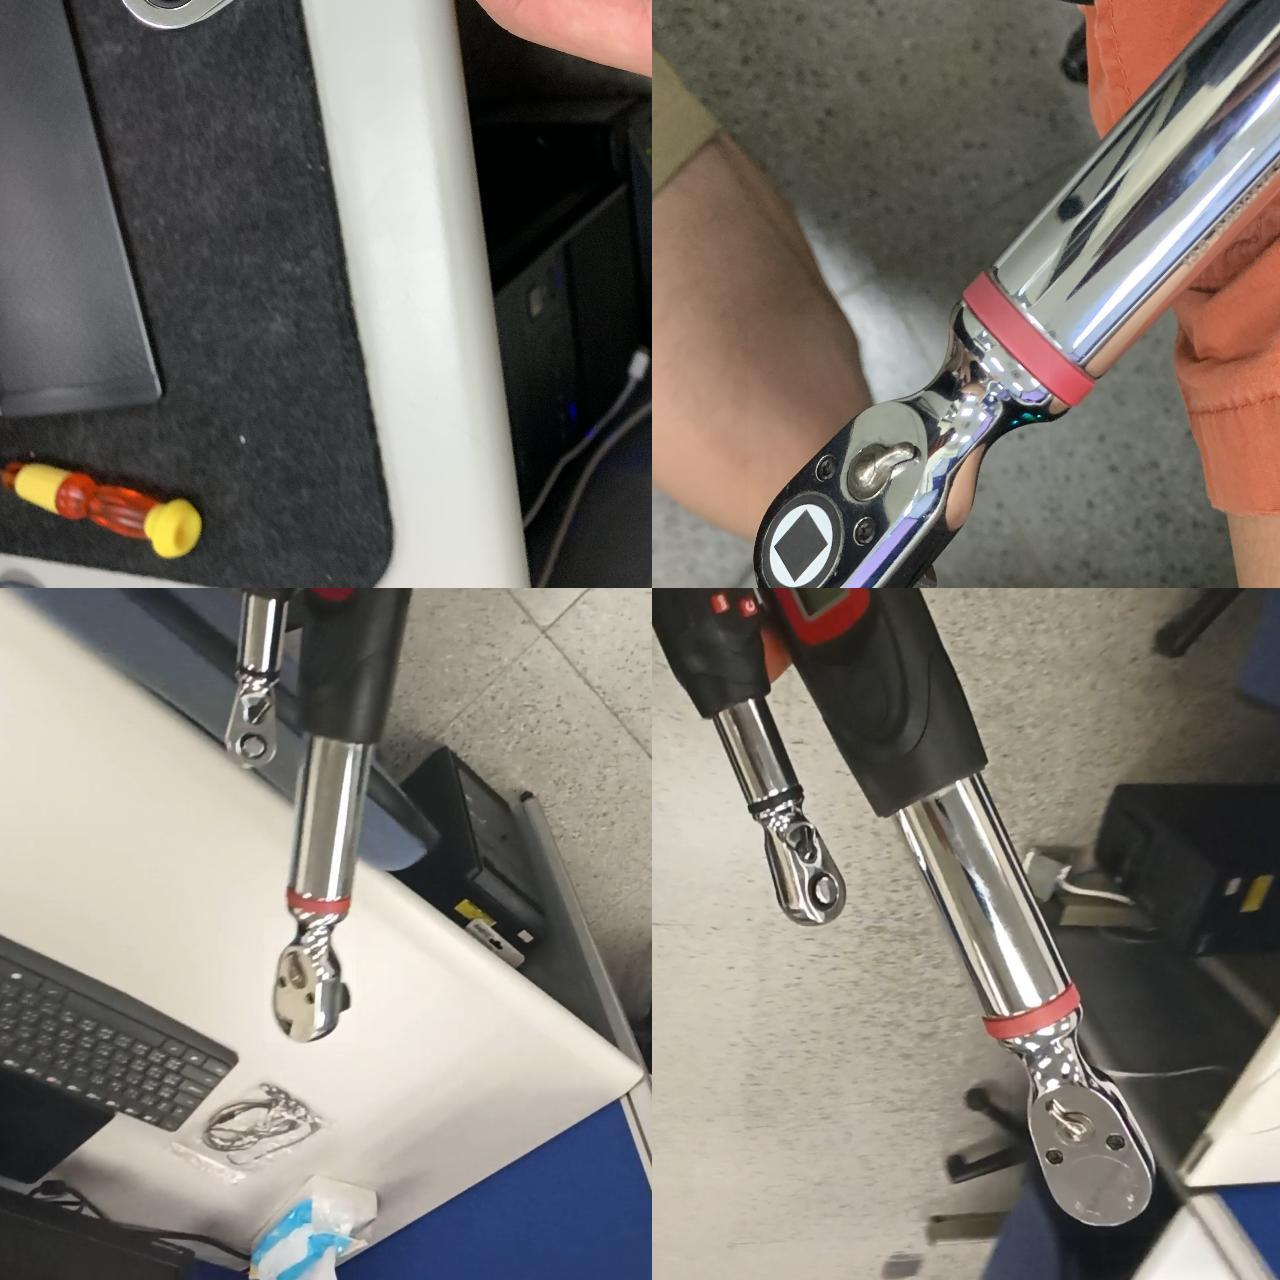Tool: (748, 315, 1050, 588), (1011, 1032, 1157, 1236), (759, 795, 849, 933), (264, 917, 356, 1043), (114, 0, 324, 30), (222, 687, 284, 775)
